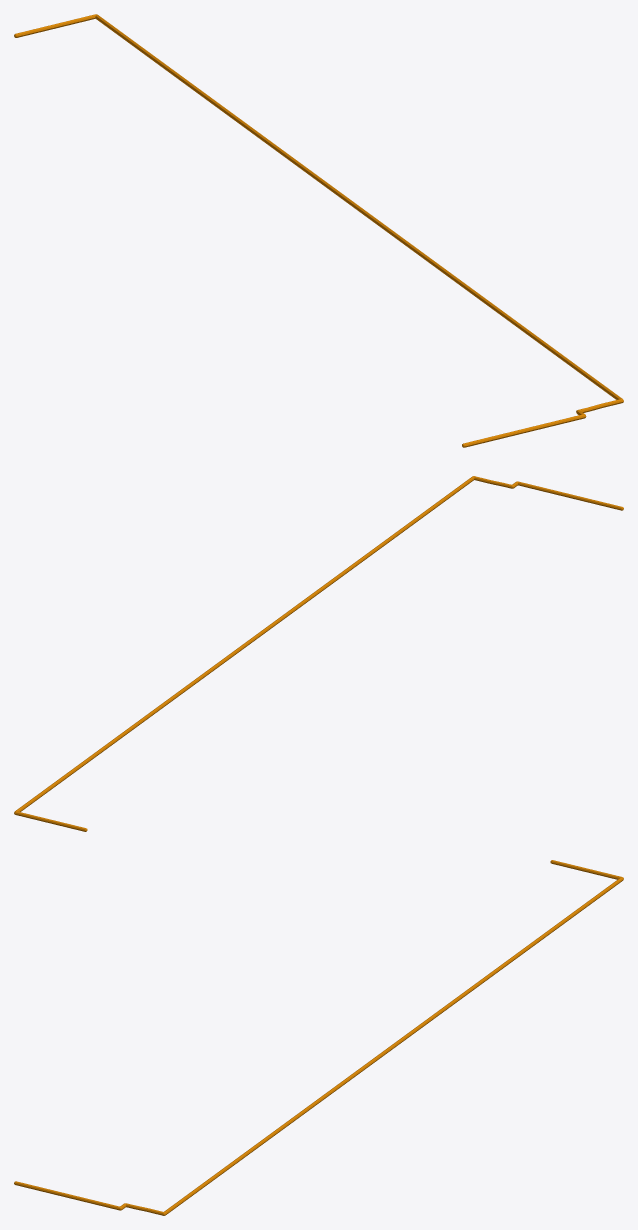
3 views of the same model, one above another, from view 1: azimuth 30°, elevation 25°; view 2: azimuth 150°, elevation 25°; view 3: azimuth 330°, elevation 25° (orthographic). The views are drawn at different scales.
Bounding box in the file's own units: 839 × 20 × 4624.
